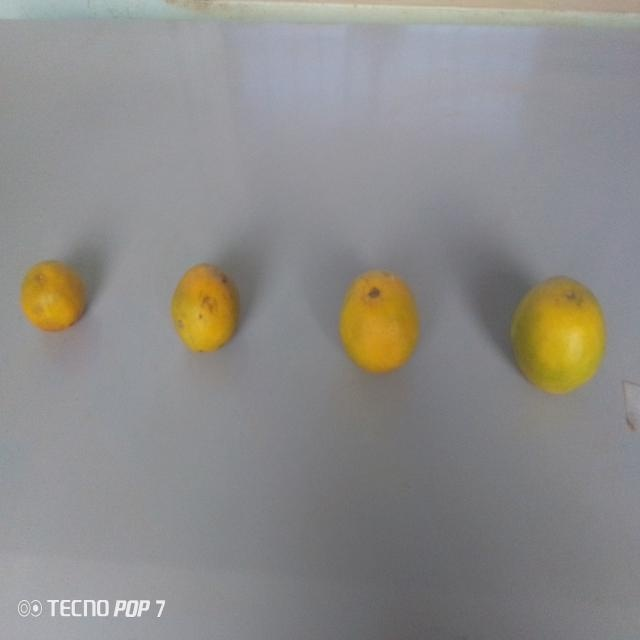agrume: (507, 271, 607, 400), (336, 261, 429, 372), (164, 257, 241, 363), (14, 245, 91, 339)
